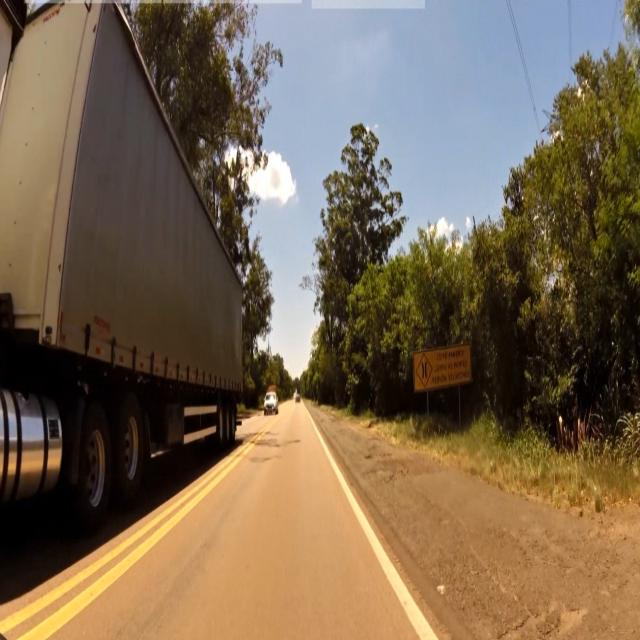A-22: (418, 352, 433, 387)
